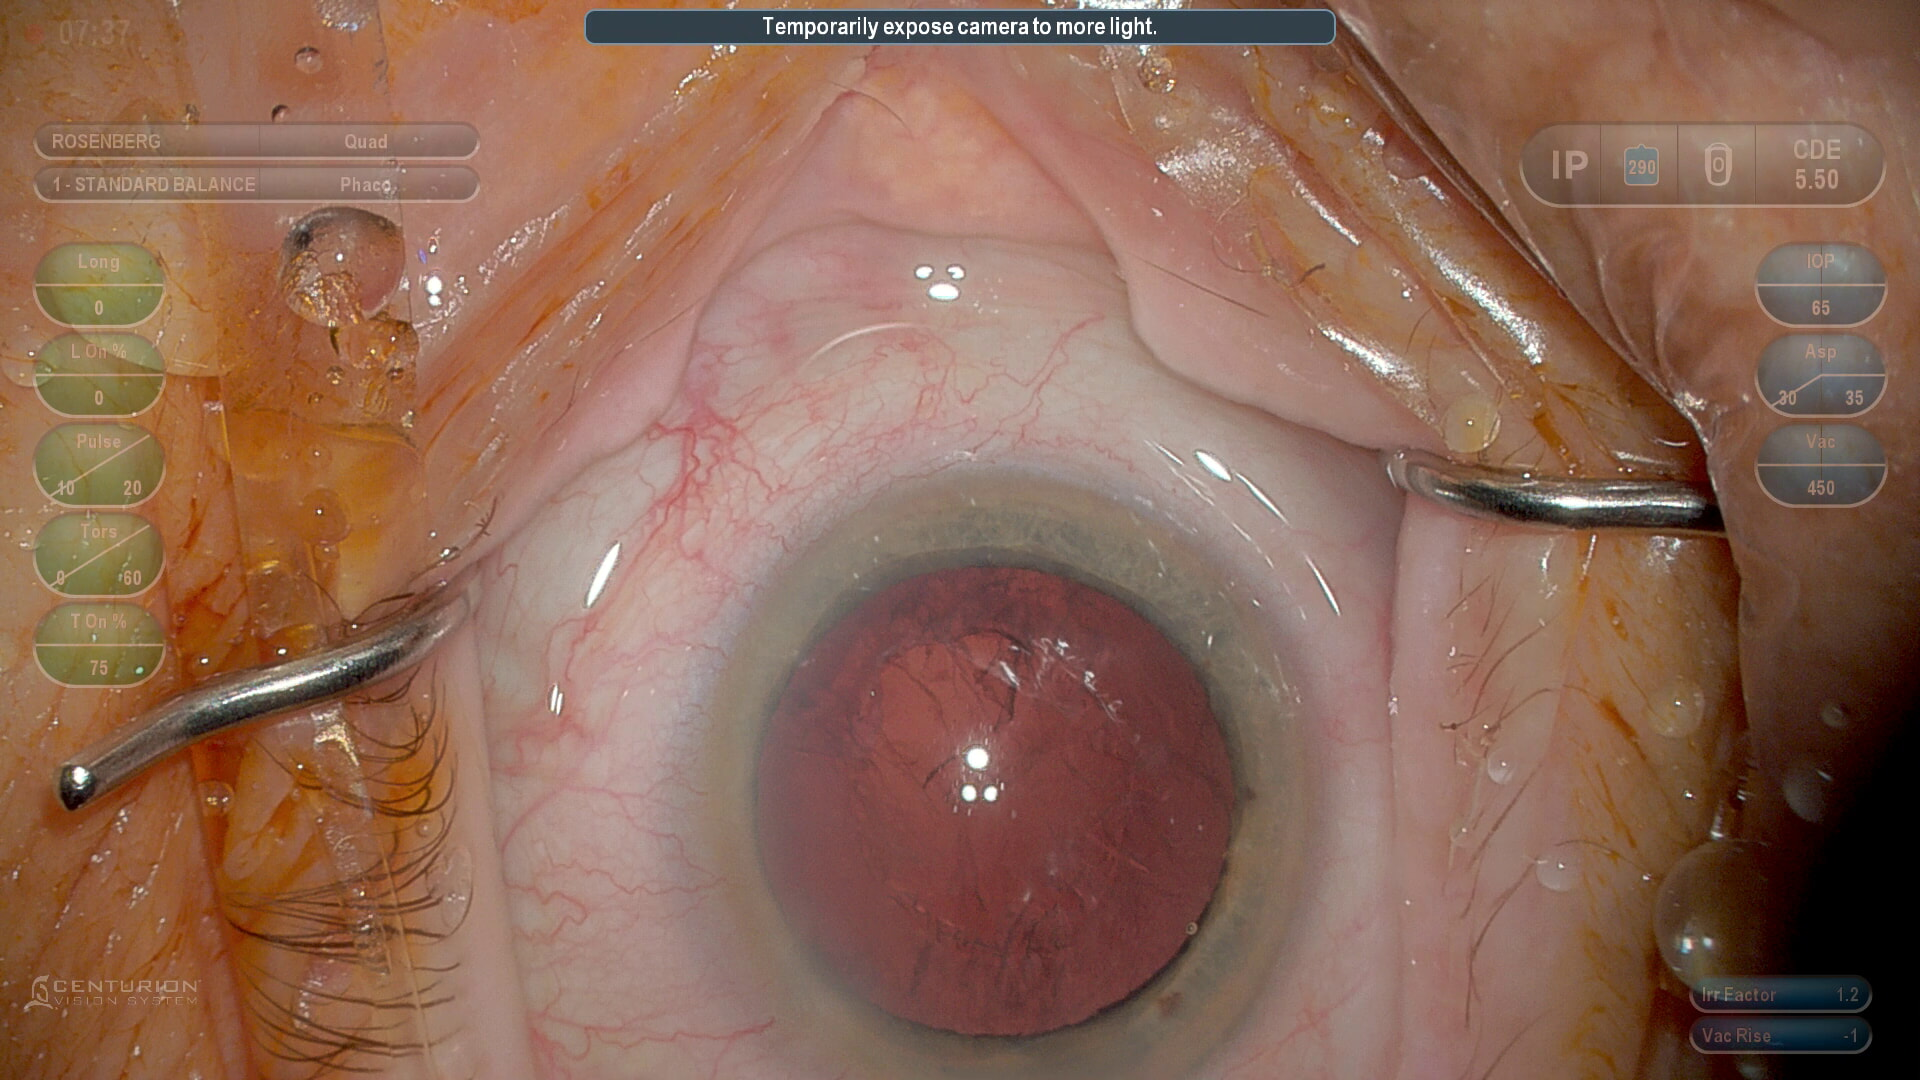iris: (710, 482, 1313, 1080)
pupil: (752, 555, 1254, 1041)
